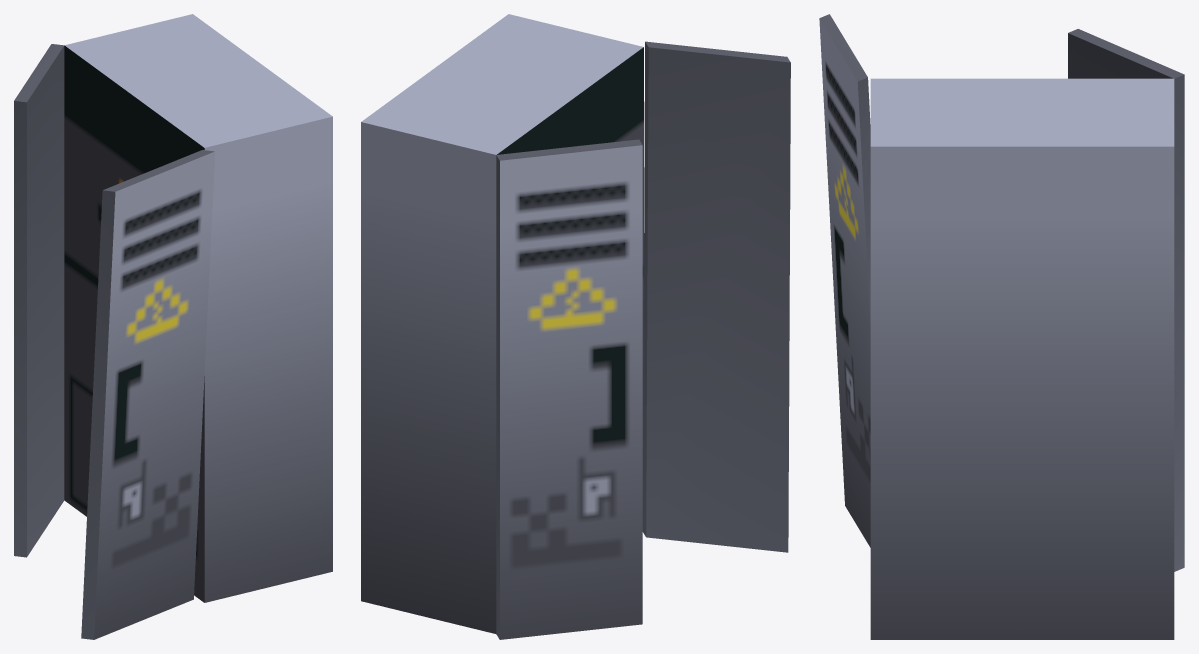
Rendered from ElectricShield 1.fbx.
3 views of the same model, side by side, from view 1: azimuth 30°, elevation 25°; view 2: azimuth 150°, elevation 25°; view 3: azimuth 270°, elevation 25° (orthographic). The views are drawn at different scales.
Visible parts, largest first — view 1: Куб.168; view 2: Куб.168; view 3: Куб.168.
Part boxes in pixels (x1=…): Куб.168: x1=14, y1=14, x2=332, y2=639; Куб.168: x1=361, y1=14, x2=790, y2=639; Куб.168: x1=819, y1=14, x2=1184, y2=639.
Bounding box in the file's own units: 111 × 187 × 125.
